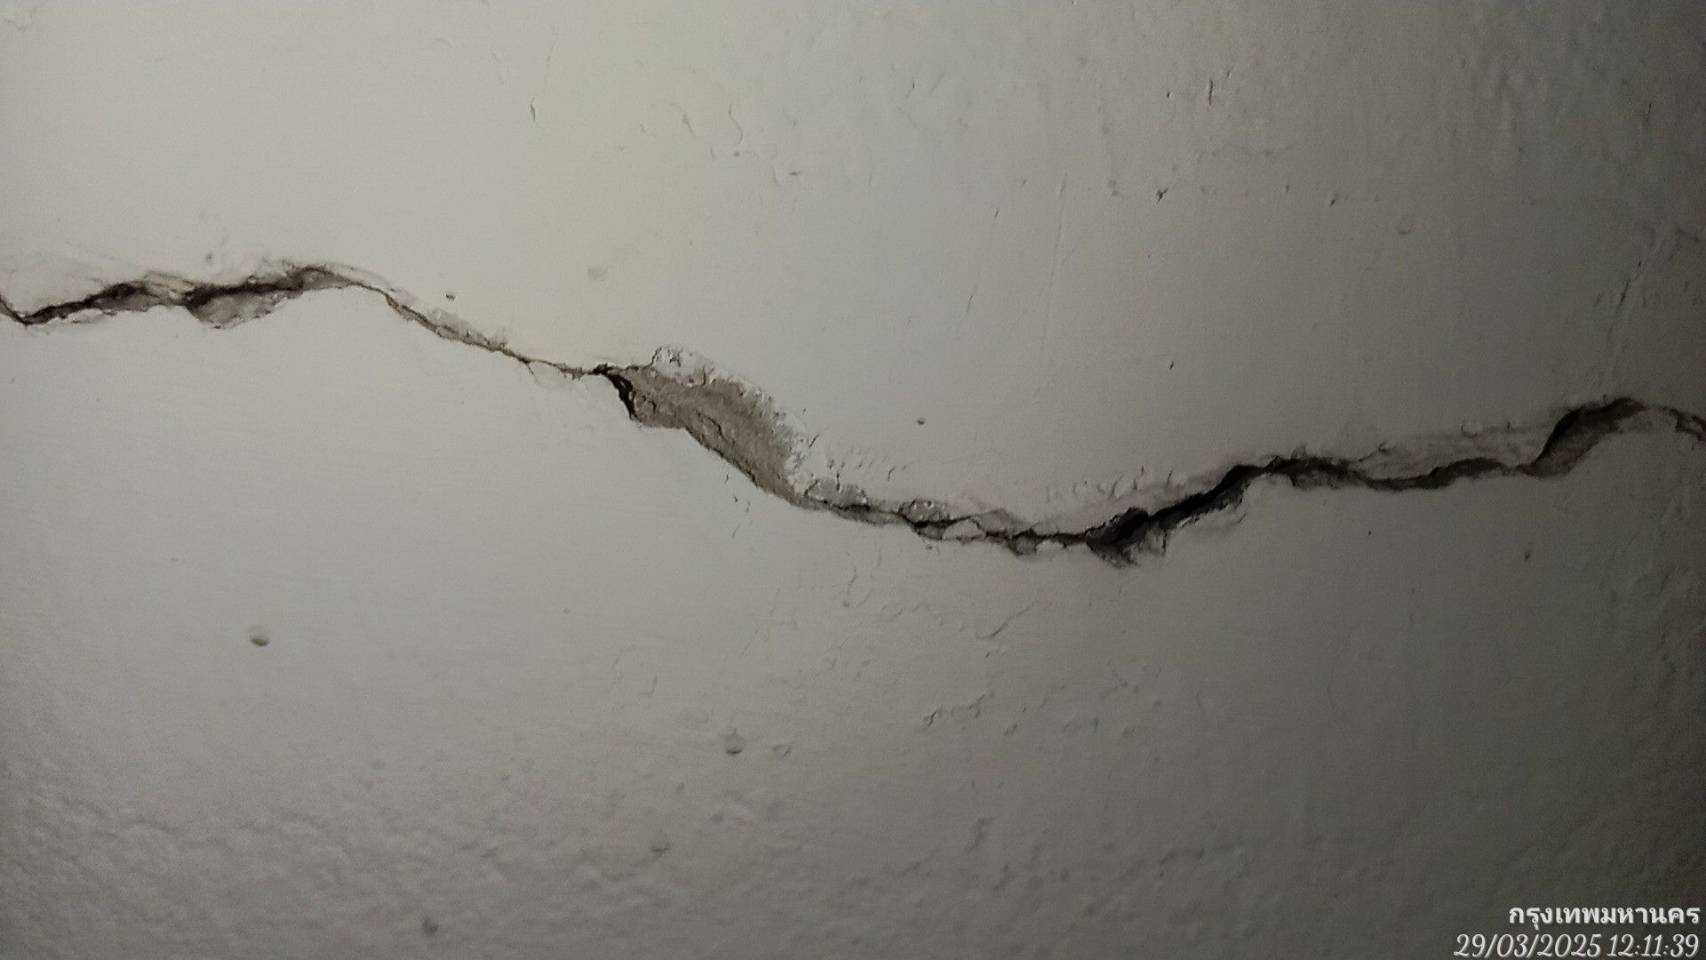High: (6, 218, 1706, 622)
